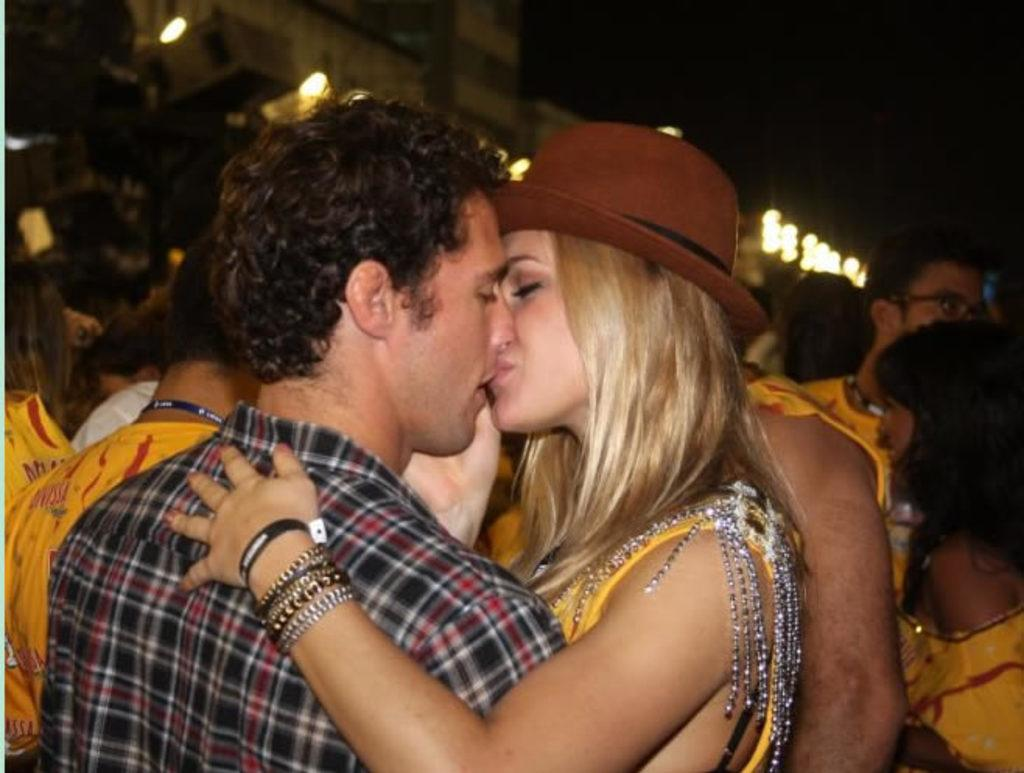Hat: (490, 119, 770, 343)
